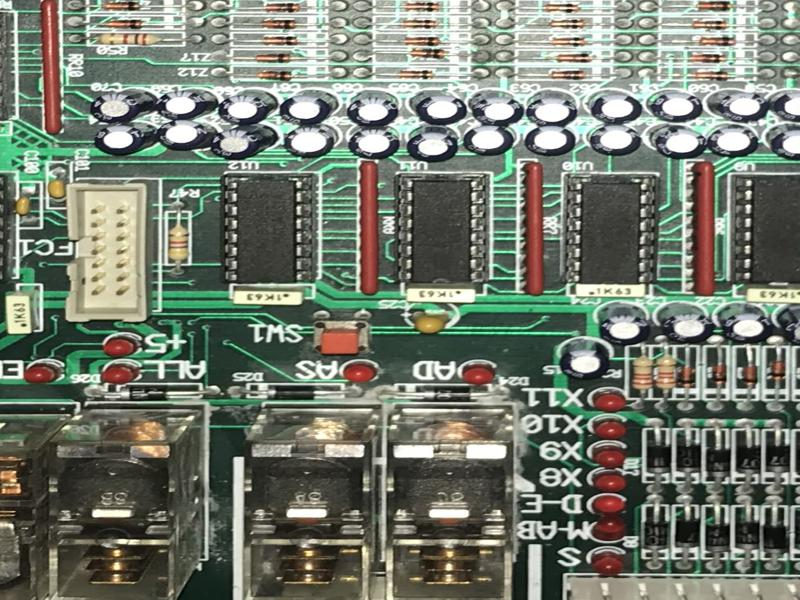Capacitor: (715, 301, 772, 346), (276, 89, 340, 128), (88, 88, 157, 124), (408, 88, 469, 128), (597, 301, 651, 346), (216, 88, 279, 126), (703, 89, 771, 124), (211, 125, 277, 161), (91, 121, 158, 156), (558, 338, 612, 381), (657, 301, 711, 343), (643, 89, 705, 125), (584, 88, 644, 125), (466, 90, 525, 127), (644, 126, 708, 160), (404, 126, 461, 164), (155, 87, 218, 121), (155, 121, 218, 155), (583, 123, 644, 157), (346, 91, 402, 128), (282, 123, 339, 159), (525, 90, 579, 127), (460, 123, 516, 158), (344, 128, 401, 162), (522, 126, 578, 158), (705, 126, 761, 158), (765, 122, 800, 162), (769, 89, 800, 124)
Diode: (662, 1, 754, 16), (644, 430, 669, 482), (667, 34, 752, 48), (111, 386, 184, 401), (645, 510, 667, 559), (243, 16, 314, 31), (677, 435, 700, 481), (676, 511, 699, 557), (382, 1, 456, 15), (245, 66, 314, 81), (764, 514, 786, 561), (706, 517, 729, 559), (392, 47, 452, 63), (243, 50, 310, 64), (738, 509, 757, 558), (261, 385, 323, 400), (389, 34, 455, 48), (765, 437, 788, 477), (668, 19, 744, 31), (736, 441, 760, 479), (93, 16, 158, 30), (387, 17, 449, 31), (89, 1, 154, 14), (247, 33, 312, 46), (421, 387, 477, 402), (708, 442, 729, 482), (250, 2, 314, 14), (532, 2, 591, 15), (536, 68, 597, 80), (680, 69, 739, 81), (679, 347, 694, 392), (392, 67, 443, 80), (709, 352, 725, 391), (547, 51, 598, 63), (541, 18, 592, 30), (541, 36, 593, 47), (675, 53, 732, 63), (770, 352, 785, 388), (744, 353, 758, 389)
LED: (24, 359, 64, 386), (591, 442, 627, 470), (103, 333, 142, 358), (592, 387, 628, 414), (589, 414, 626, 439), (590, 549, 623, 577), (591, 469, 629, 493), (341, 360, 378, 384), (102, 361, 139, 384), (592, 516, 626, 541), (461, 361, 494, 385), (591, 494, 627, 515)
Resistor: (87, 32, 175, 48), (166, 212, 190, 265), (631, 350, 653, 394), (655, 351, 676, 396)
